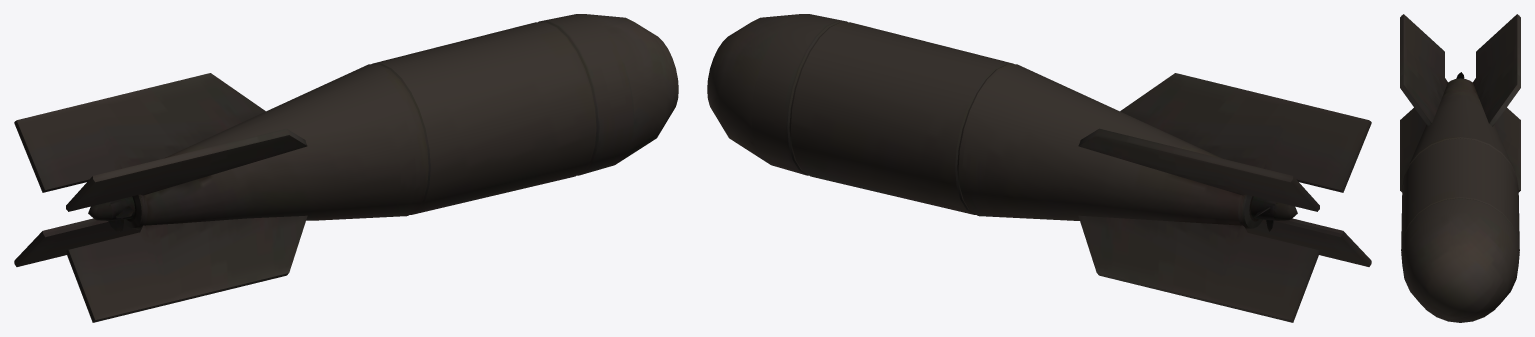
The picture shows the model from 3 angles, left to right: view 1: azimuth 30°, elevation 25°; view 2: azimuth 150°, elevation 25°; view 3: azimuth 270°, elevation 25°; orthographic projection. The views are drawn at different scales.
Parts seen in each view (by area): view 1: body0_model0_lod0_mesh0; view 2: body0_model0_lod0_mesh0; view 3: body0_model0_lod0_mesh0.
Boxes of the visible parts, x1,y1,x2,y2 form: body0_model0_lod0_mesh0: [14, 14, 678, 322]; body0_model0_lod0_mesh0: [707, 14, 1371, 322]; body0_model0_lod0_mesh0: [1400, 14, 1520, 322].
Bounding box in the file's own units: 173 × 39.56 × 39.56.
Materials: 1 (1 with a texture image).
